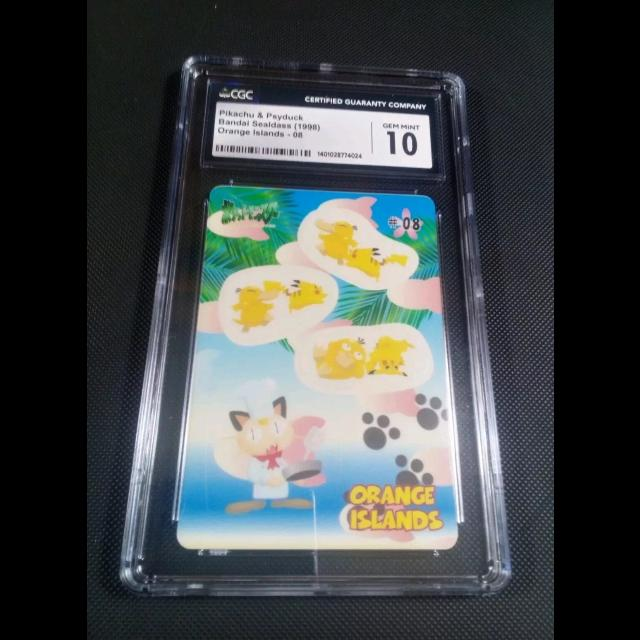card: (174, 185, 460, 550)
cgc_label: (201, 83, 440, 176)
cgc_slab: (113, 52, 513, 596)
